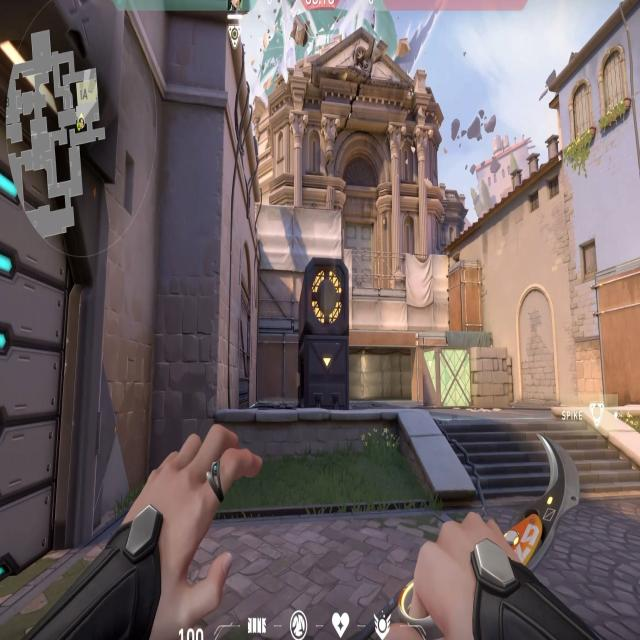A_Heaven_Box: (447, 258, 485, 331)
A_Heaven_Wall: (258, 208, 346, 334)
A_Hell: (348, 336, 428, 402)
A_Site_Box: (421, 345, 511, 407)
